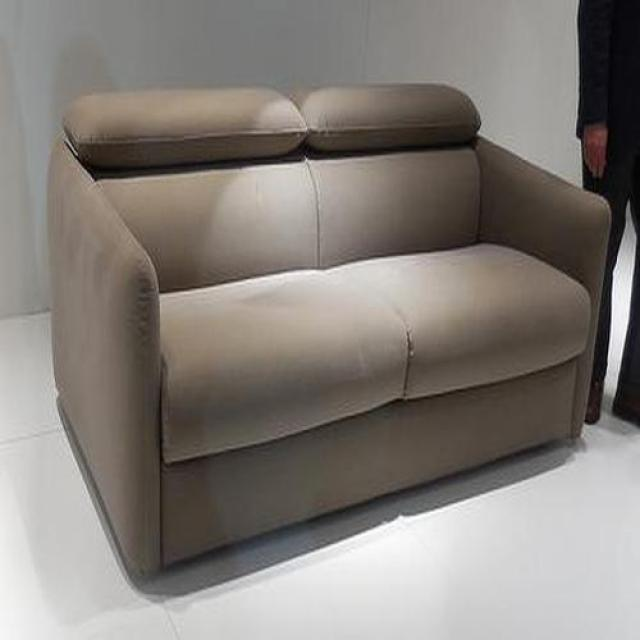sofa: (45, 84, 612, 589)
